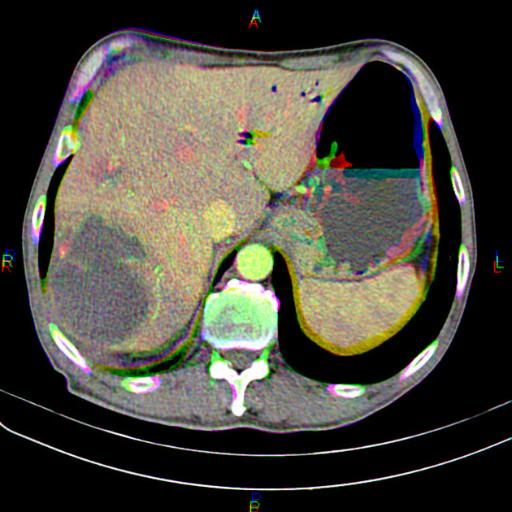Abscess: (49, 215, 147, 343)
